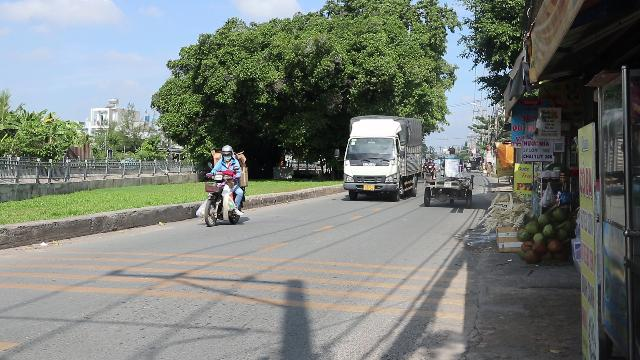helmet: (220, 144, 232, 162)
motorcyclist: (197, 144, 247, 228)
